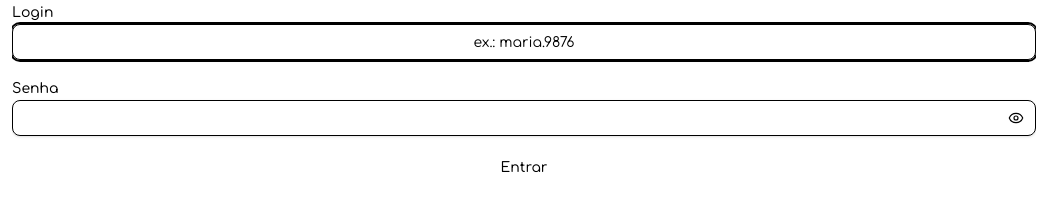
Test: LoginForm › shows a field error when password is empty
Step 1. Type "admin" into the field labelled "Login" → (524, 42), box [12,24,1036,60]
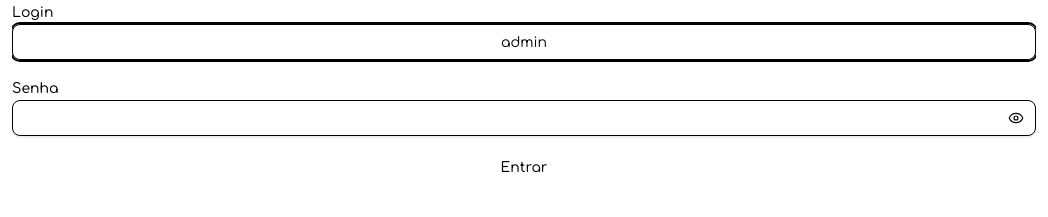
Step 2. Click the button "Entrar" → (524, 168), box [12,152,1036,184]
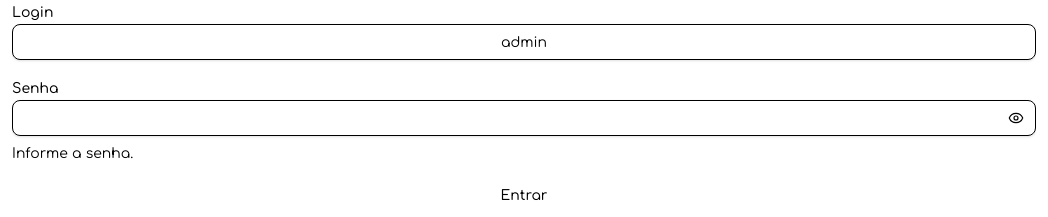
Check: the message reads "Informe a senha.", box [12,146,133,161]
